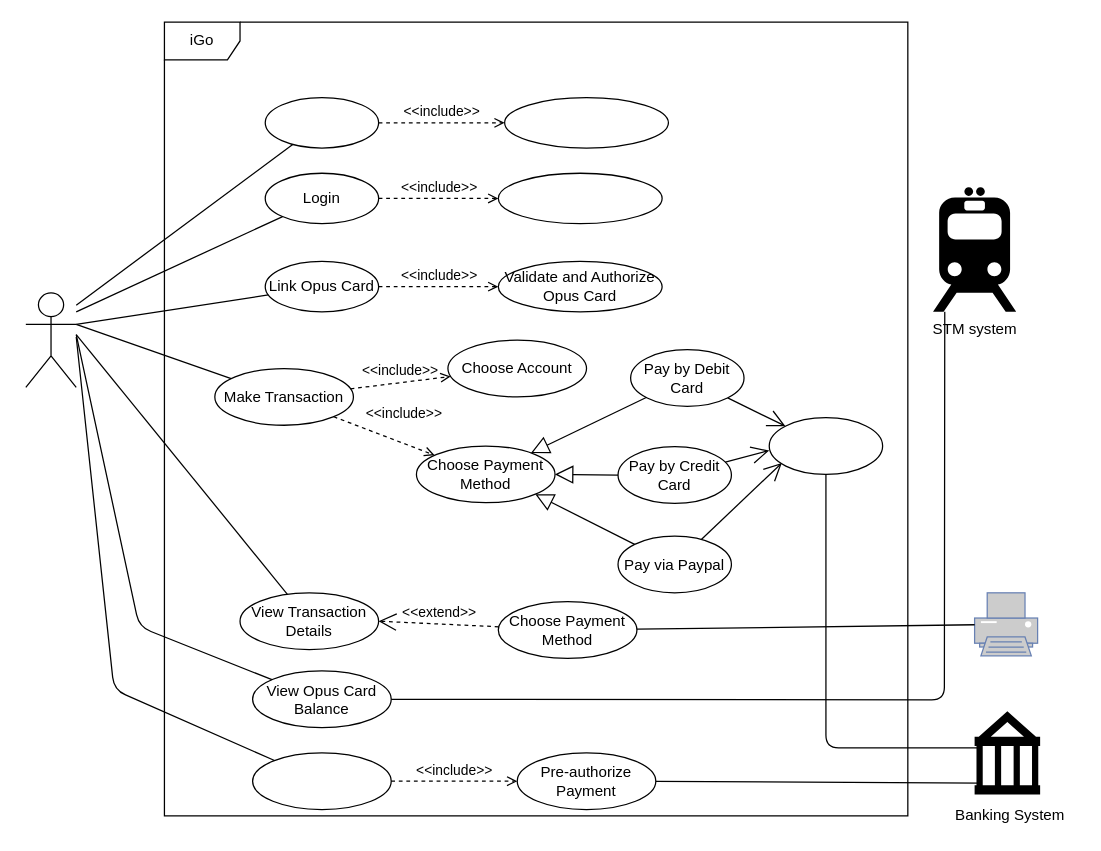
The diagram is 1101 pixels wide and 851 high, and some of its shapes have lost their labels. Each missing label, with the centre of its shape:
Authorize Credentials: the point at 579,198
Authorize Payment: the point at 825,445
Create iGo Account: the point at 585,122
Printer: the point at 1005,623
Register: the point at 321,122
Schedule Payment: the point at 321,781
Traveller: the point at 50,339
